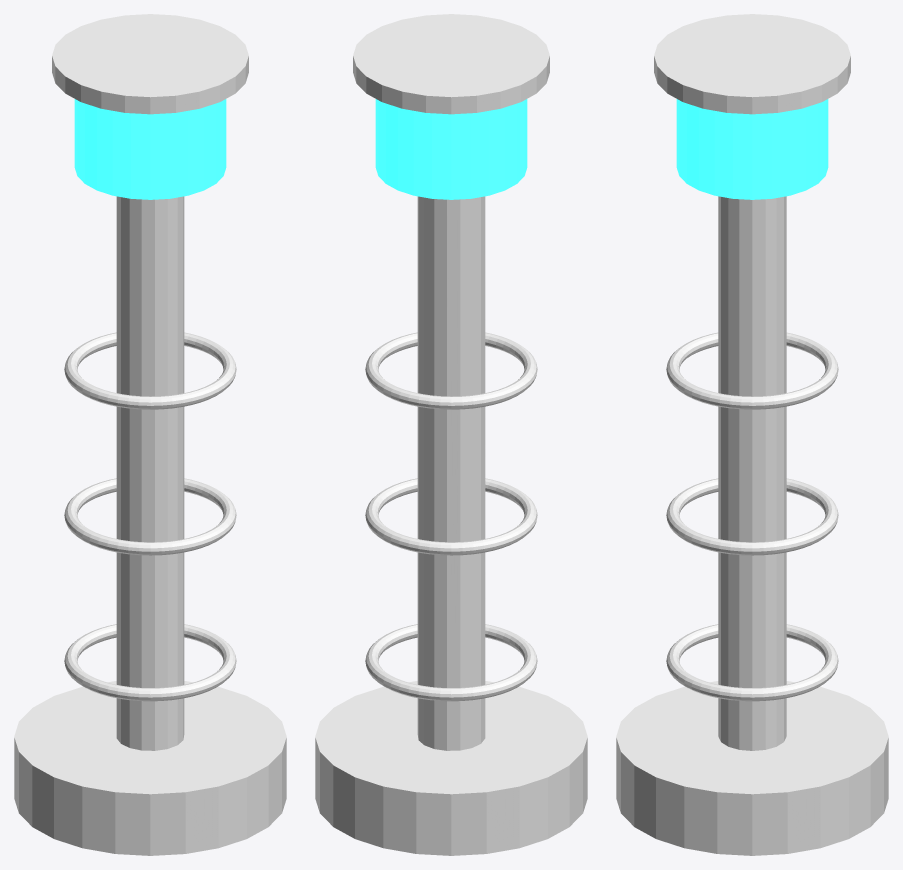
File: SM_FC01_Prop_TideBeacon_A.glb
3 renders of one model, left to right at view 1: azimuth 30°, elevation 25°; view 2: azimuth 150°, elevation 25°; view 3: azimuth 270°, elevation 25°, orthographic.
Parts seen in each view (by area): view 1: SM_FC01_Prop_TideBeacon_A_Base, SM_FC01_Prop_TideBeacon_A_Mast, SM_FC01_Prop_TideBeacon_A_Cap, SM_FC01_Prop_TideBeacon_A_Light, トーラス.002, トーラス.001, トーラス; view 2: SM_FC01_Prop_TideBeacon_A_Base, SM_FC01_Prop_TideBeacon_A_Mast, SM_FC01_Prop_TideBeacon_A_Cap, SM_FC01_Prop_TideBeacon_A_Light, トーラス.002, トーラス.001, トーラス; view 3: SM_FC01_Prop_TideBeacon_A_Base, SM_FC01_Prop_TideBeacon_A_Mast, SM_FC01_Prop_TideBeacon_A_Cap, SM_FC01_Prop_TideBeacon_A_Light, トーラス.002, トーラス.001, トーラス.
Part boxes in pixels (left/top/right/bottom): SM_FC01_Prop_TideBeacon_A_Base: left=14, top=681, right=286, bottom=855; SM_FC01_Prop_TideBeacon_A_Mast: left=116, top=196, right=184, bottom=750; SM_FC01_Prop_TideBeacon_A_Cap: left=52, top=14, right=248, bottom=114; SM_FC01_Prop_TideBeacon_A_Light: left=74, top=99, right=226, bottom=199; トーラス.002: left=64, top=332, right=236, bottom=409; トーラス.001: left=64, top=478, right=236, bottom=555; トーラス: left=64, top=624, right=236, bottom=701; SM_FC01_Prop_TideBeacon_A_Base: left=315, top=681, right=587, bottom=855; SM_FC01_Prop_TideBeacon_A_Mast: left=417, top=196, right=485, bottom=750; SM_FC01_Prop_TideBeacon_A_Cap: left=353, top=14, right=549, bottom=114; SM_FC01_Prop_TideBeacon_A_Light: left=375, top=99, right=527, bottom=199; トーラス.002: left=365, top=332, right=537, bottom=409; トーラス.001: left=365, top=478, right=537, bottom=555; トーラス: left=365, top=624, right=537, bottom=701; SM_FC01_Prop_TideBeacon_A_Base: left=616, top=681, right=888, bottom=855; SM_FC01_Prop_TideBeacon_A_Mast: left=718, top=196, right=786, bottom=750; SM_FC01_Prop_TideBeacon_A_Cap: left=654, top=14, right=850, bottom=114; SM_FC01_Prop_TideBeacon_A_Light: left=676, top=99, right=828, bottom=199; トーラス.002: left=666, top=332, right=838, bottom=409; トーラス.001: left=666, top=478, right=838, bottom=555; トーラス: left=666, top=624, right=838, bottom=701.
Size of the model in its own units: 1.44 by 4.33 by 1.44.
